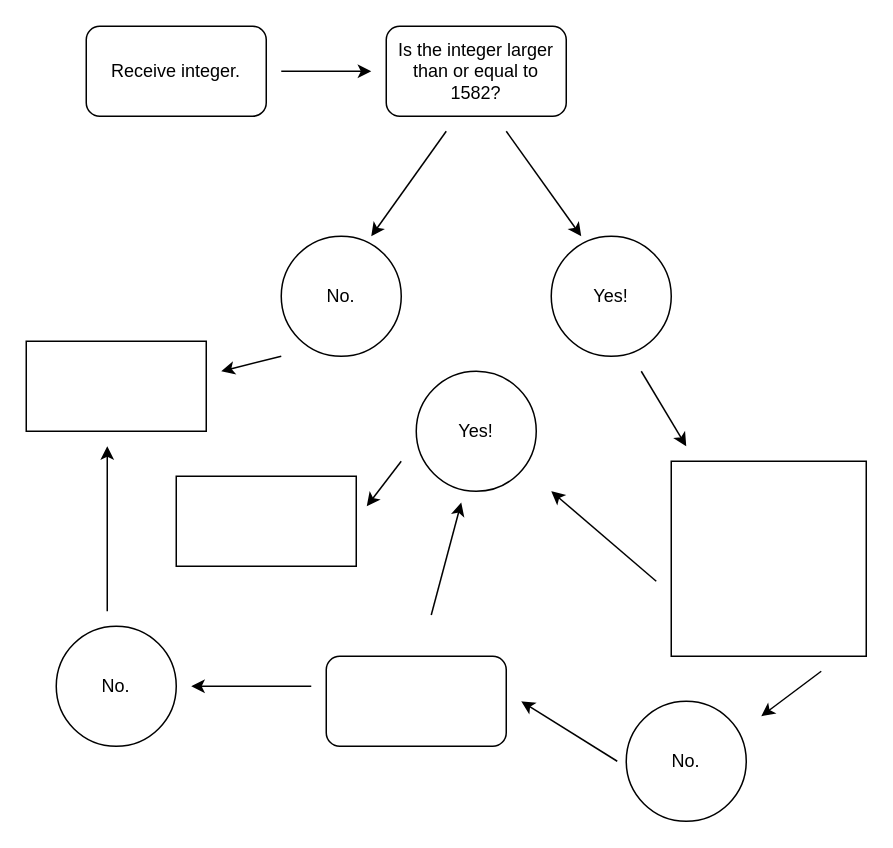
Image size: 893x848. Some labels were removed from this diagram. Here are the shapes that lost their labels. From the top down, the box of each, then its label:
(25, 340, 206, 431): Return false.
(175, 475, 356, 566): Return true.
(670, 460, 866, 656): Is the integer divisible by 4, while also being NOT divisible by 100?
(325, 655, 506, 746): Is the integer divisible by 400?
